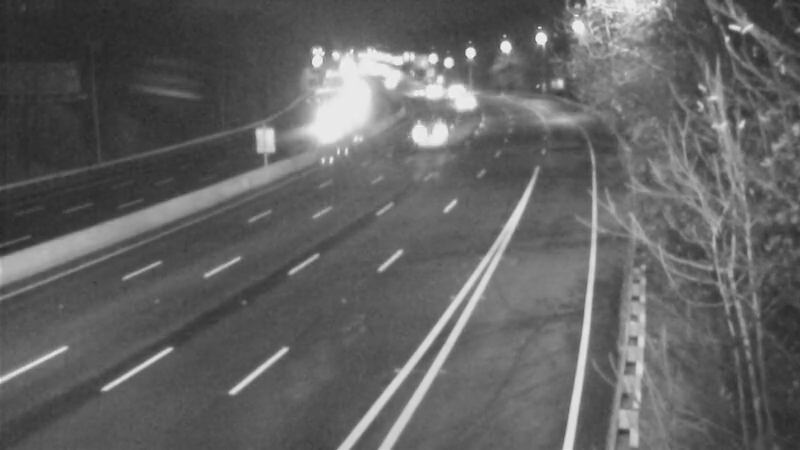vehicle: (363, 61, 413, 111), (406, 63, 456, 113), (389, 69, 439, 119), (429, 68, 479, 118), (441, 74, 491, 124), (396, 106, 446, 156), (306, 101, 356, 151)
